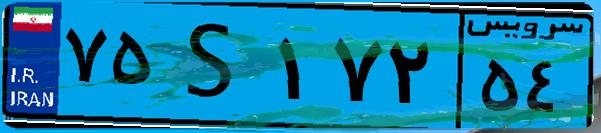1: (270, 28, 330, 110)
2: (385, 28, 445, 110)
4: (525, 38, 570, 115)
5: (475, 38, 525, 113), (110, 28, 158, 98)
7: (330, 28, 385, 110), (57, 26, 110, 100)
S: (158, 12, 270, 120)
